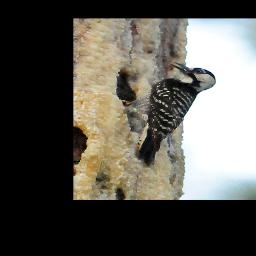Woodpecker: (123, 62, 218, 167)
